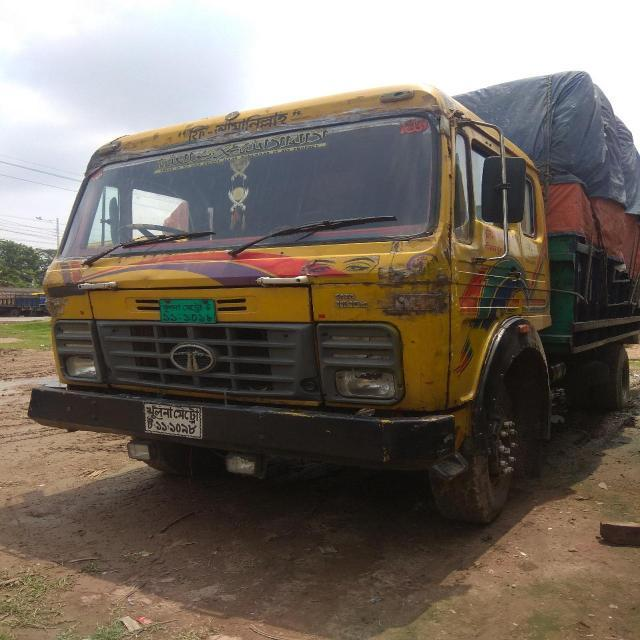numberplate: (141, 402, 203, 439), (158, 297, 216, 323)
